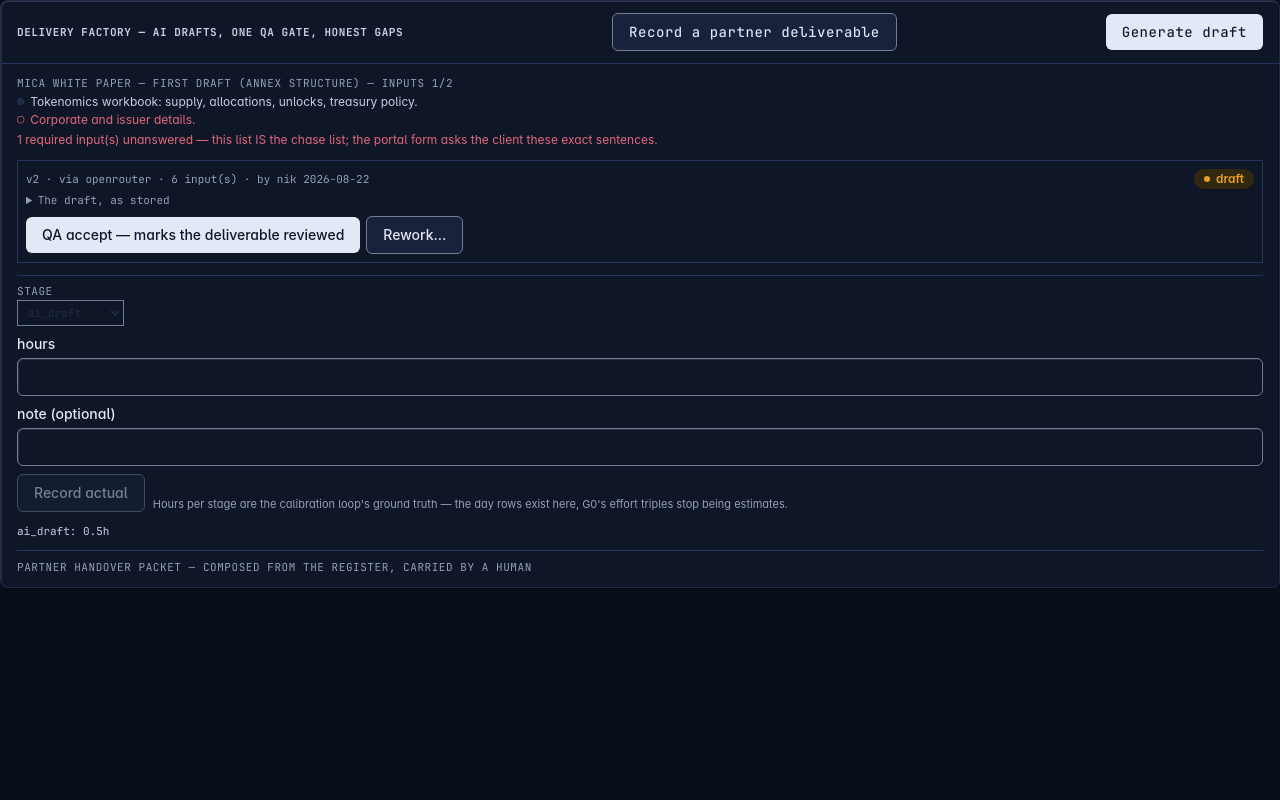
Test: the factory panel › a D10 refusal renders the missing sentences verbatim
Expected: the element with test id "factory-slots" is shown, [17, 76, 658, 147]
Click the button "Generate draft" at (1184, 32), box [1106, 14, 1263, 50]
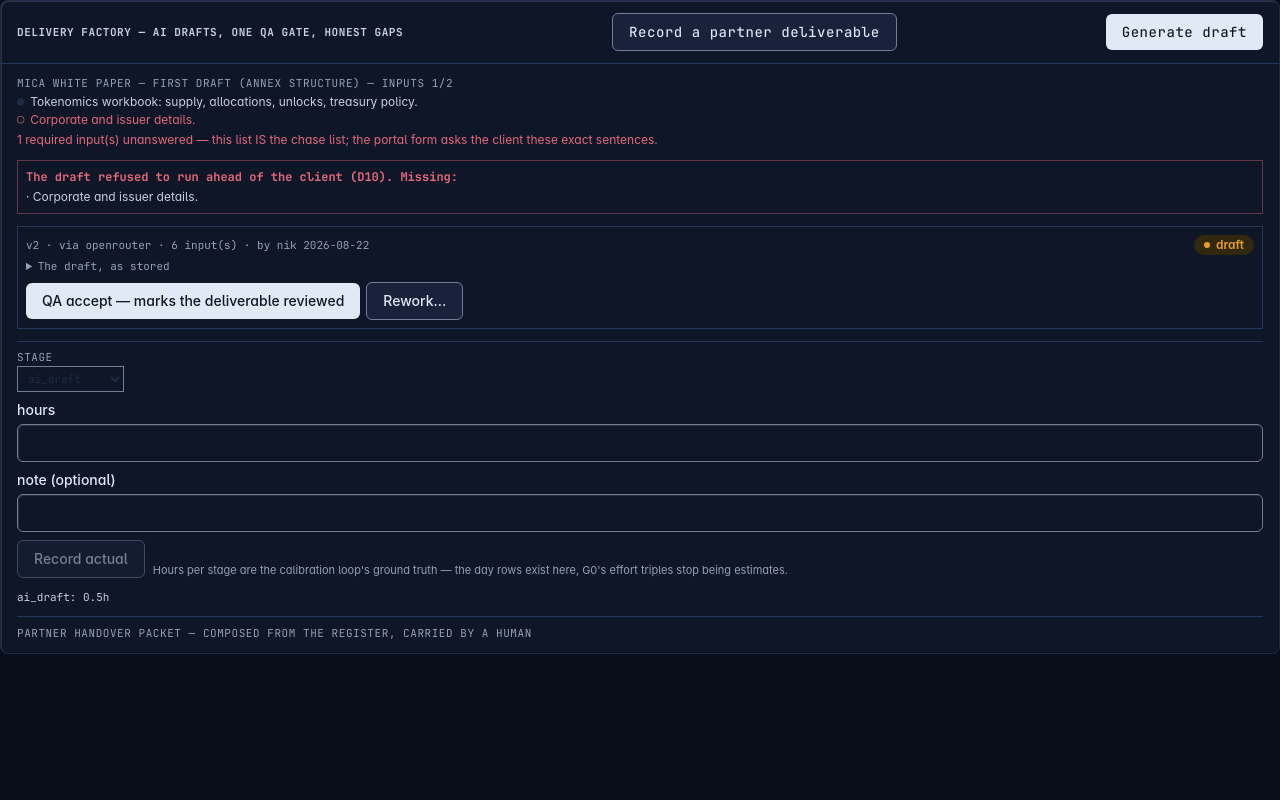
Result: the element with test id "factory-refusal" shows "D10" at [26, 169, 458, 185]
Result: the element with test id "factory-refusal" shows "Corporate and issuer details." at [33, 189, 198, 204]
